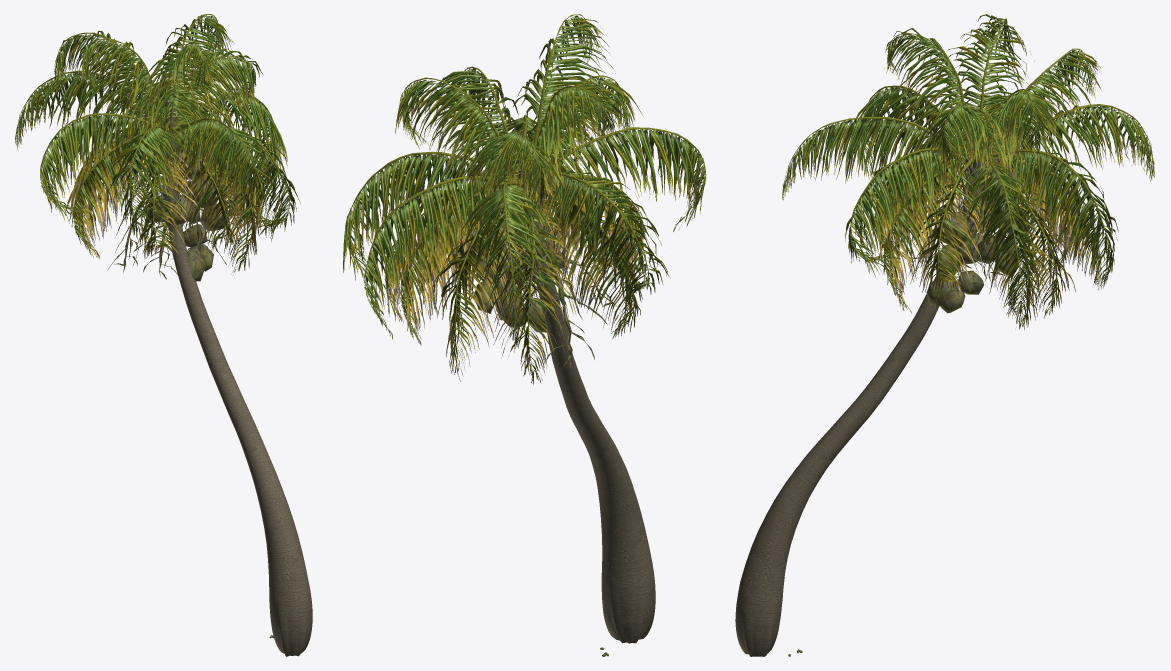
File: palm_coconut.glb
3 views of the same model, side by side, from view 1: azimuth 30°, elevation 25°; view 2: azimuth 150°, elevation 25°; view 3: azimuth 270°, elevation 25° (orthographic). The views are drawn at different scales.
Parts seen in each view (by area): view 1: CoconutPalm_PLA; view 2: CoconutPalm_PLA; view 3: CoconutPalm_PLA.
Part boxes in pixels (x1,y1,x2,y2): CoconutPalm_PLA: (15,14,312,656); CoconutPalm_PLA: (343,14,706,656); CoconutPalm_PLA: (735,14,1154,656).
Bounding box in the file's own units: 25.53 × 55.38 × 34.76.
Materials: 9 (9 with a texture image).
